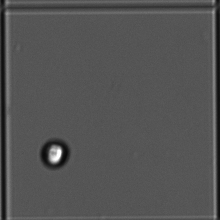Living Cell: (39, 137, 72, 171)
